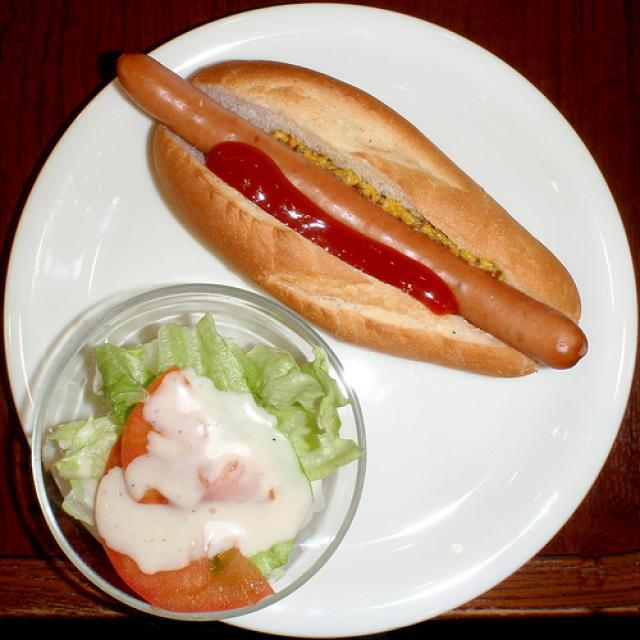Green Salad: (110, 43, 590, 377)
